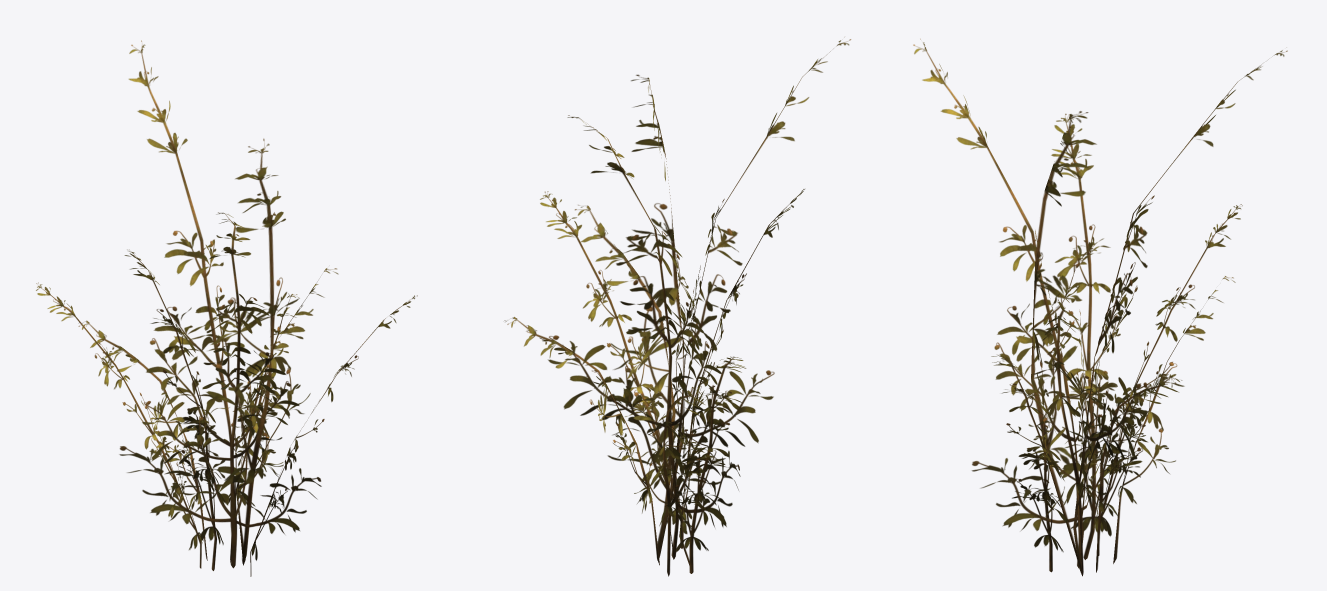
The model's file is plant.glb.
The picture shows the model from 3 angles, left to right: view 1: azimuth 30°, elevation 25°; view 2: azimuth 150°, elevation 25°; view 3: azimuth 270°, elevation 25°; orthographic projection. The views are drawn at different scales.
Parts seen in each view (by area): view 1: leaf3, leaf3_1, leaf1_2, leaf2, leaf2_2, leaf1_1, leaf1, leaf2_1, leaf1_3; view 2: leaf3, leaf3_1, leaf1_2, leaf2_1, leaf2_2, leaf1, leaf1_3, leaf1_1, leaf2; view 3: leaf3_1, leaf2, leaf3, leaf1_2, leaf1, leaf2_2, leaf2_1, leaf1_3, leaf1_1.
Part boxes in pixels (<box>): leaf3: <box>119,40,283,567</box>; leaf3_1: <box>142,212,321,567</box>; leaf1_2: <box>206,138,310,565</box>; leaf2: <box>124,249,225,570</box>; leaf2_2: <box>36,282,203,568</box>; leaf1_1: <box>78,320,207,560</box>; leaf1: <box>237,268,338,564</box>; leaf2_1: <box>250,295,417,576</box>; leaf1_3: <box>223,293,299,562</box>; leaf3: <box>548,115,740,558</box>; leaf3_1: <box>670,39,850,559</box>; leaf1_2: <box>611,74,706,557</box>; leaf2_1: <box>540,191,692,548</box>; leaf2_2: <box>665,356,745,573</box>; leaf1: <box>575,205,675,557</box>; leaf1_3: <box>504,317,659,565</box>; leaf1_1: <box>634,387,705,576</box>; leaf2: <box>679,189,804,565</box>; leaf3_1: <box>913,39,1087,568</box>; leaf2: <box>1051,113,1127,559</box>; leaf3: <box>1073,50,1287,568</box>; leaf1_2: <box>1031,111,1096,574</box>; leaf1: <box>1024,293,1109,575</box>; leaf2_2: <box>1097,204,1242,555</box>; leaf2_1: <box>991,355,1068,572</box>; leaf1_3: <box>1083,376,1182,572</box>; leaf1_1: <box>1113,276,1235,563</box>.
Size of the model in its own units: 2.94 by 4.35 by 3.01.
1 material, 1 textured.
